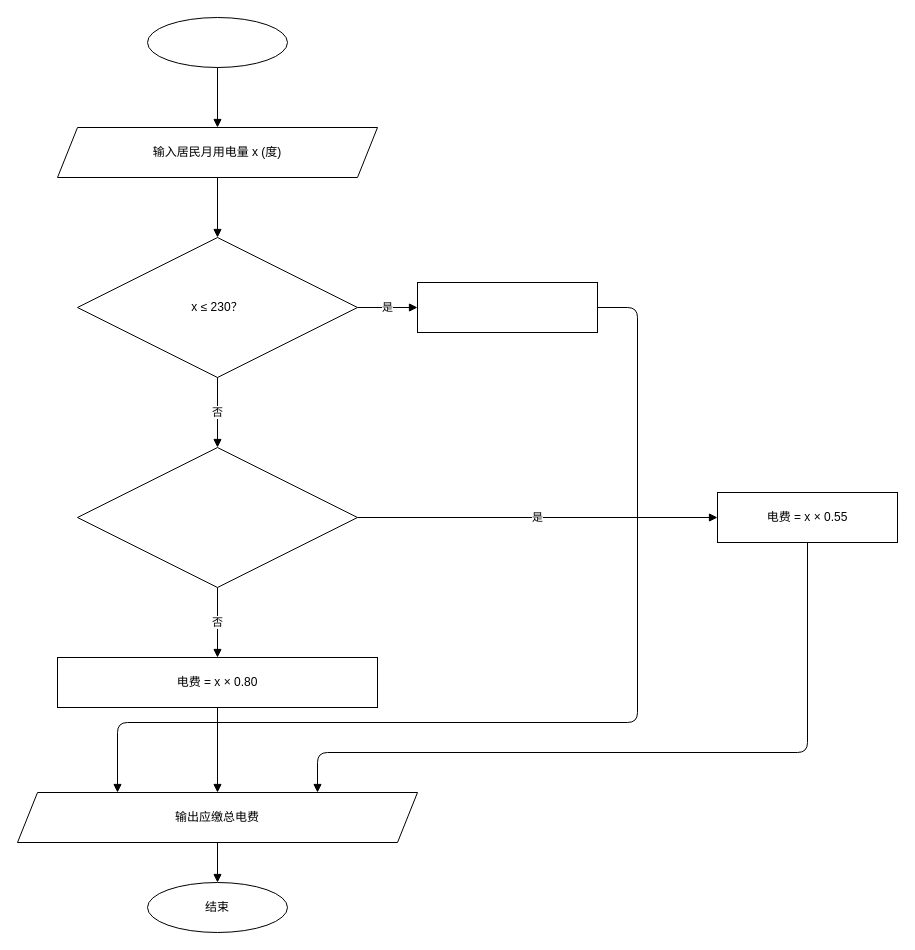
The diagram is 915 pixels wide and 950 high, and some of its shapes have lost their labels. Here are the shapes that lost their labels. From the top down, the centre of each, then its label:
At (x=217, y=42): "开始".
At (x=507, y=307): "电费 = x × 0.50".
At (x=217, y=517): "x ≤ 400？".
